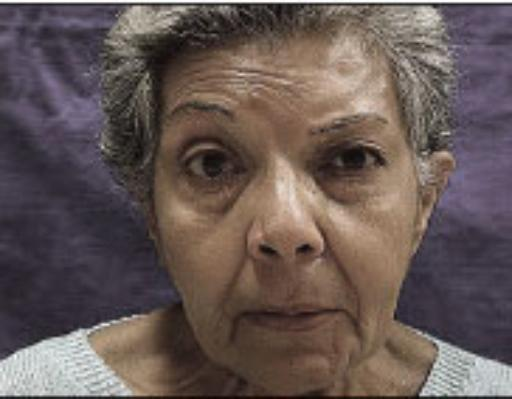left_eye: (316, 146, 391, 174)
left_lip_corner: (326, 302, 354, 321)
right_eye: (183, 151, 244, 185)
right_lip_corner: (226, 305, 264, 325)
